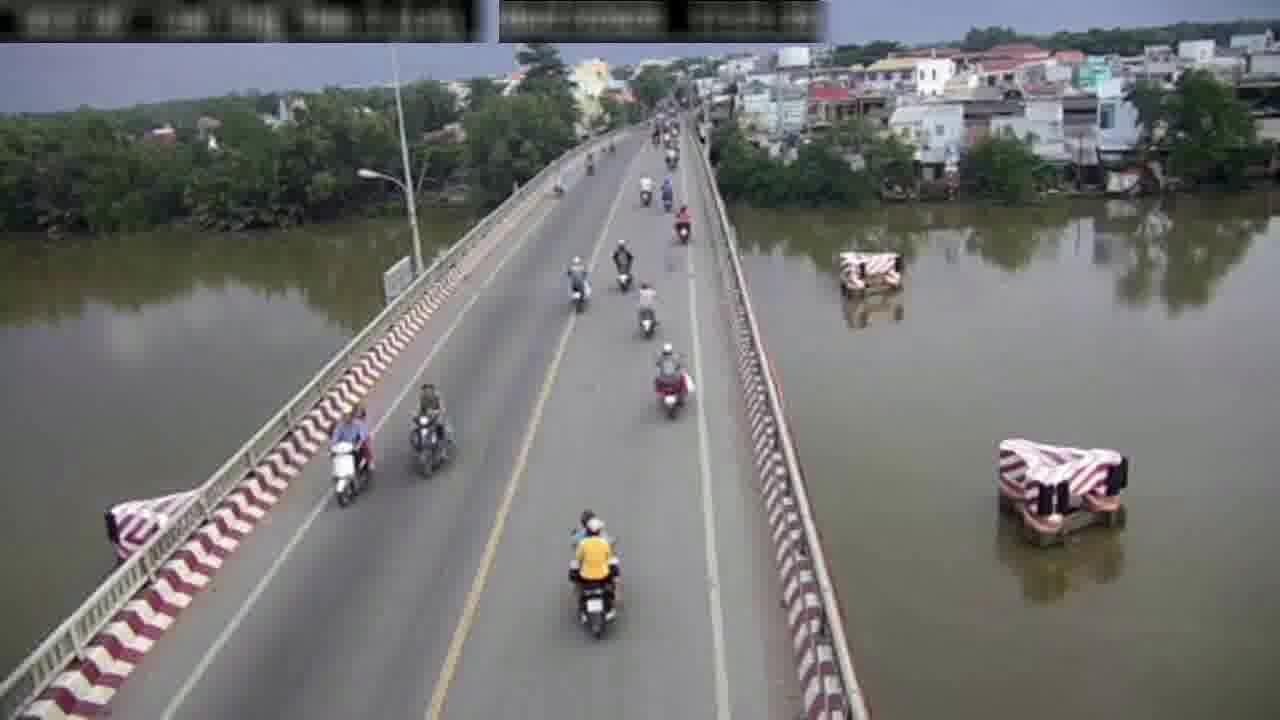motorbike: (567, 505, 621, 641), (323, 387, 378, 511), (410, 377, 459, 484), (655, 337, 689, 424), (567, 253, 593, 317), (635, 278, 660, 341), (611, 235, 635, 293), (673, 198, 692, 245), (635, 165, 651, 203), (658, 172, 672, 211)
